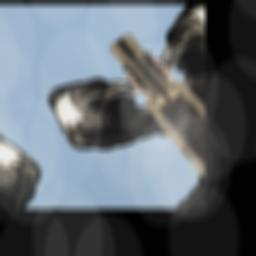Crow: (31, 48, 183, 183)
